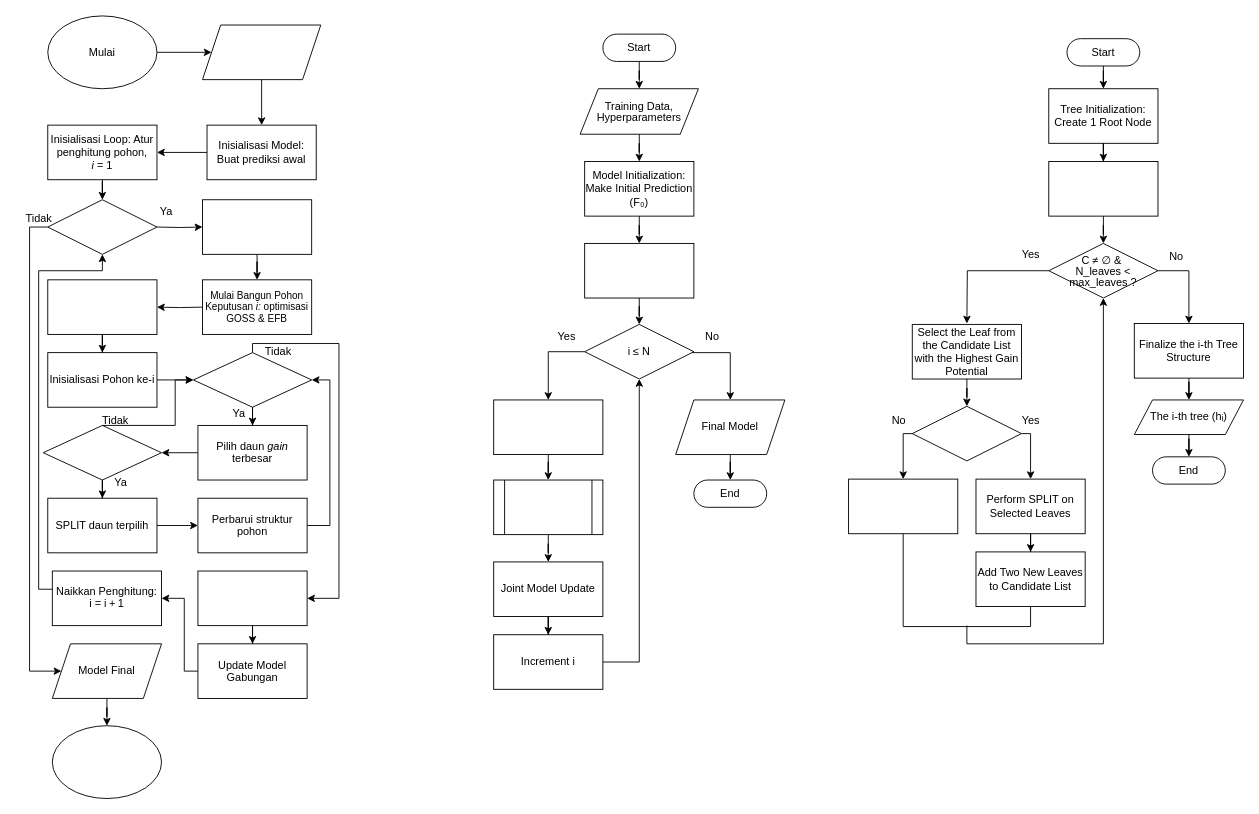
This 1259x814 diagram has some shape labels left out. Each missing label, with the box of its shape:
Apakah i ≤ N: (47, 199, 157, 254)
Bisa Split Daun & Jumlah daun < max_leaves ?: (192, 352, 312, 407)
Buat Representasi Histogram: (47, 279, 157, 334)
Build i-th Tree (hᵢ): (493, 479, 603, 535)
Calculate Pseudo-Residuals (Error): (493, 399, 603, 455)
Create Histogram Representation for all Features: (1048, 161, 1158, 216)
gain > min_split_gain: (42, 425, 162, 480)
Gain > min_split_gain ?: (911, 405, 1021, 461)
Hitung Residu (Target untuk Pohon Baru): (202, 199, 312, 254)
Input: Data Training, Hyperparameters: (202, 24, 321, 80)
Pohon ke- i selesai dibangun: (197, 570, 307, 626)
Remove Current Leaf from Candidate List: (848, 478, 958, 534)
Selesai: (51, 725, 162, 799)
Tree Loop Initialization: Set i = 1: (584, 243, 694, 298)
